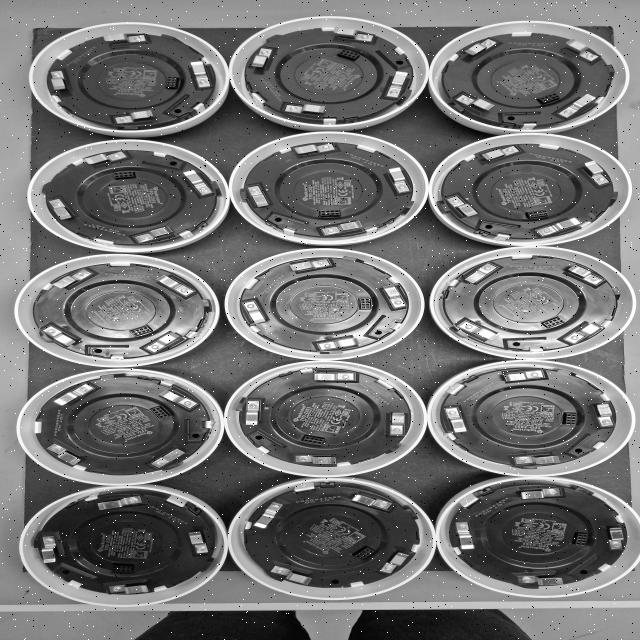yaysiz: (104, 106, 165, 126), (49, 384, 97, 408), (324, 25, 379, 45), (559, 92, 599, 119), (248, 502, 284, 532), (152, 272, 195, 297), (560, 36, 601, 62), (458, 320, 504, 343), (560, 261, 604, 285), (270, 564, 317, 586), (186, 58, 217, 91), (49, 269, 93, 291), (247, 44, 279, 74), (44, 326, 84, 350), (566, 320, 606, 344), (386, 67, 414, 101), (459, 36, 502, 58), (536, 216, 583, 236), (447, 195, 483, 221), (46, 443, 85, 467), (461, 262, 498, 287), (454, 94, 498, 115), (156, 387, 198, 409), (41, 535, 70, 566), (280, 101, 332, 118), (146, 330, 186, 352), (578, 158, 610, 185), (380, 548, 412, 575), (151, 445, 188, 468), (383, 164, 412, 193), (242, 300, 272, 328), (377, 280, 407, 308), (283, 259, 332, 276), (516, 570, 568, 586), (183, 526, 212, 554), (445, 406, 472, 436), (348, 492, 393, 510), (91, 496, 141, 512), (48, 69, 76, 97), (321, 220, 373, 235), (289, 143, 337, 159), (319, 334, 367, 350), (495, 370, 545, 385), (476, 146, 520, 163), (108, 580, 157, 595), (48, 198, 76, 224), (589, 400, 615, 428), (101, 33, 151, 47), (455, 522, 477, 552), (516, 488, 563, 502), (248, 186, 274, 211), (82, 152, 128, 166), (294, 452, 342, 465), (245, 399, 266, 428), (514, 452, 564, 464), (304, 372, 356, 383), (603, 524, 625, 550), (387, 408, 403, 437)
